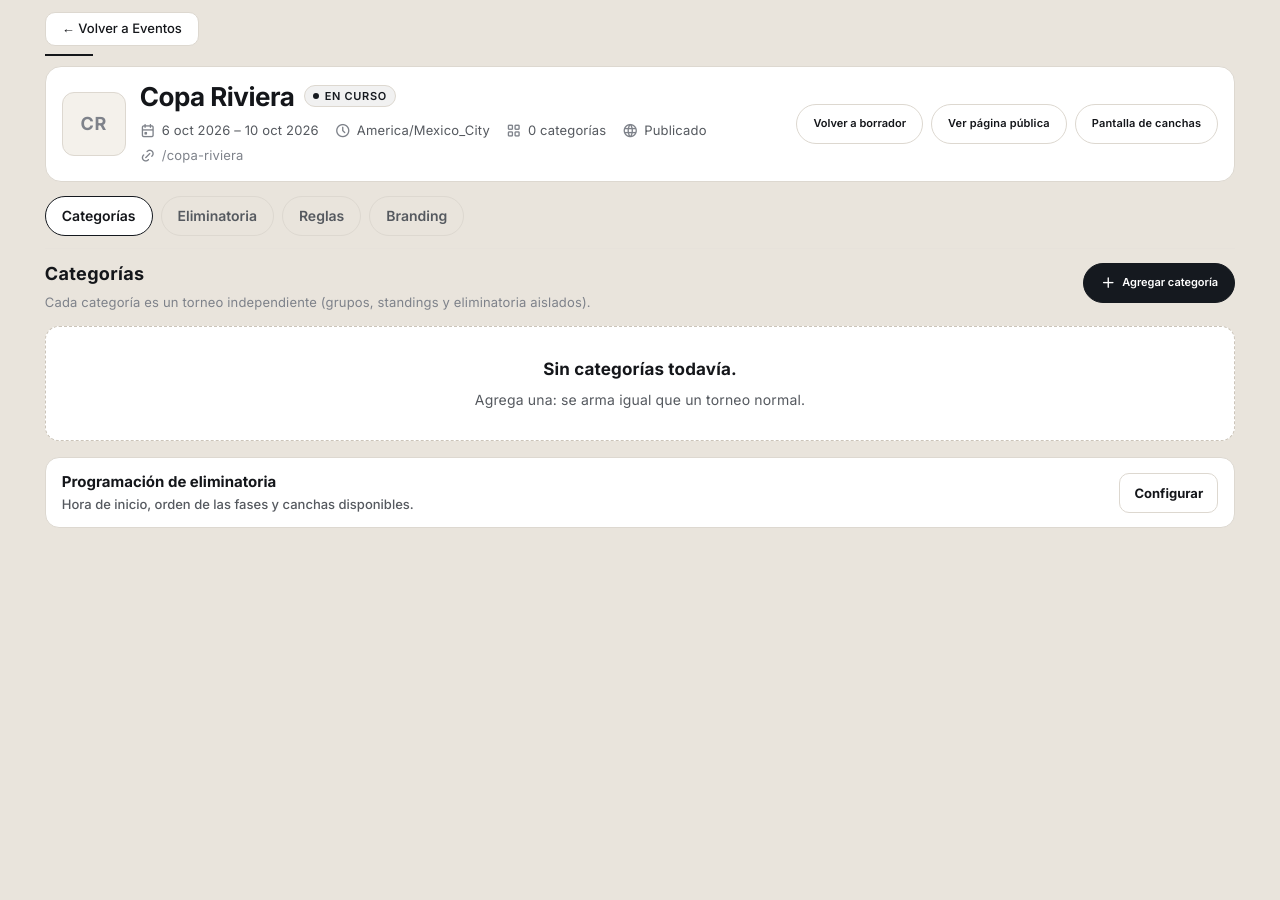
Test: EventoDetalle (Fase 2) › solo el panel activo es visible y los demás se conservan montados
Expected: the heading "Copa Riviera" is shown, [140,81,294,112]
Expected: the panel "Categorías" is shown, [45,263,1235,528]
Click the tab "Reglas" at (322, 216), box [282,196,361,236]
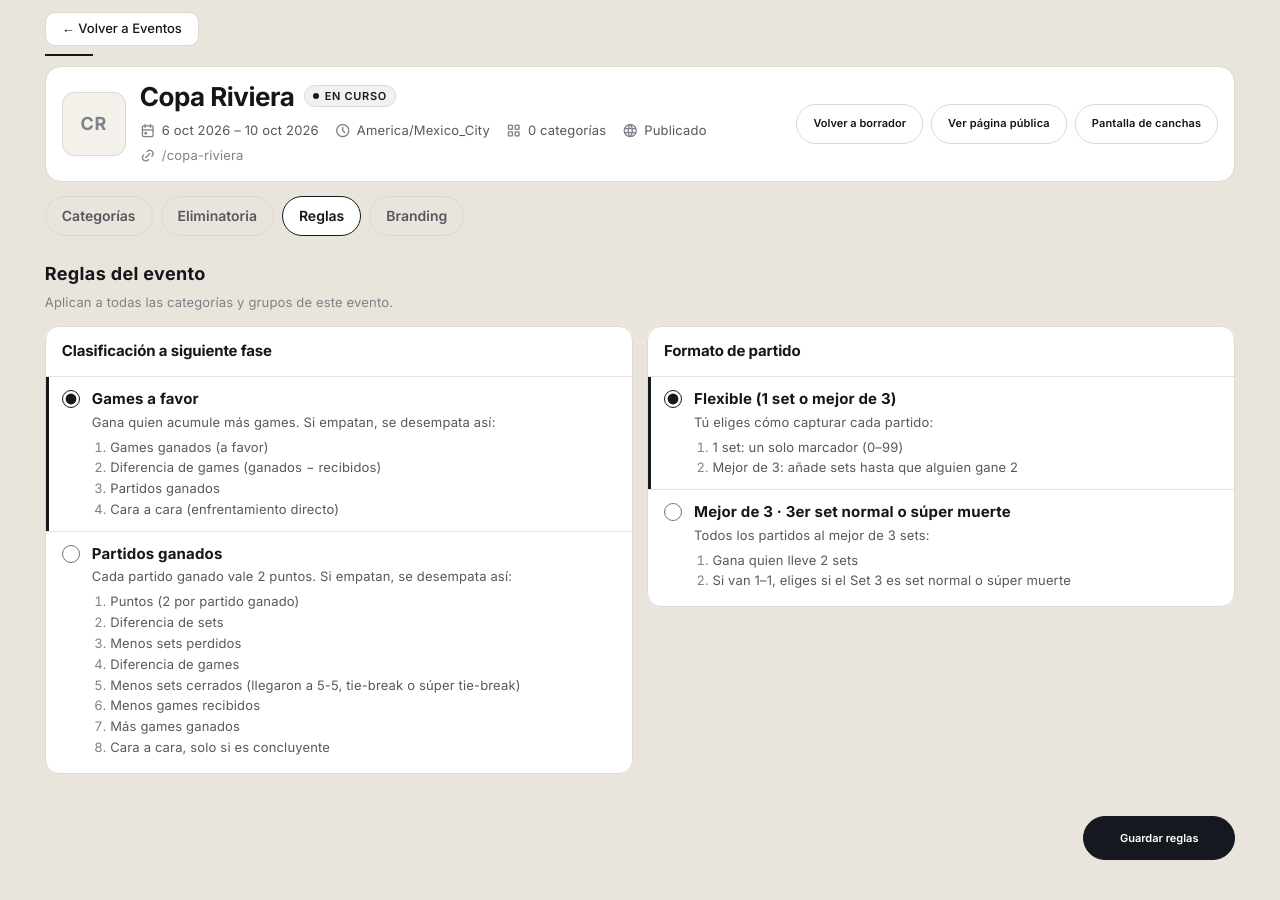
Expected: the panel "Reglas" is shown
